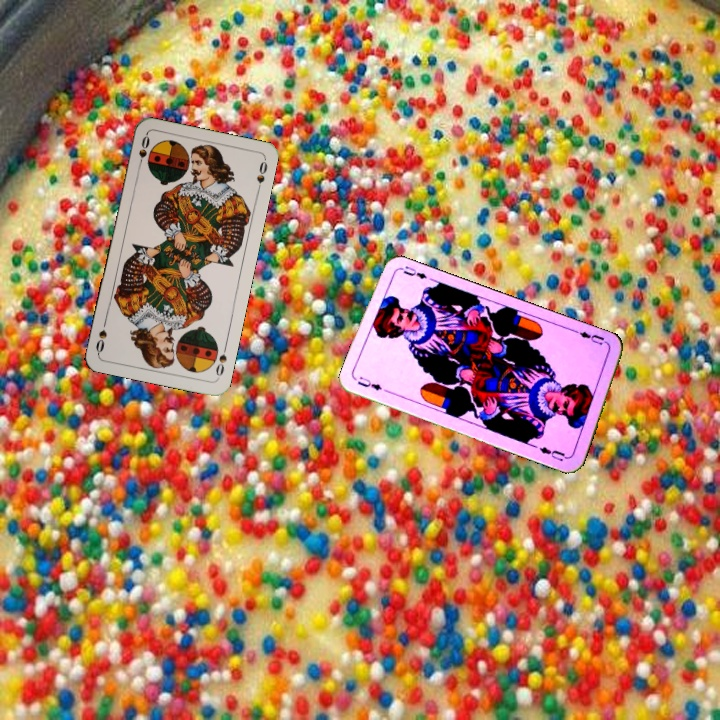EU: (571, 326, 610, 350), (353, 373, 384, 393)
SO: (134, 132, 152, 171), (212, 341, 229, 381)
